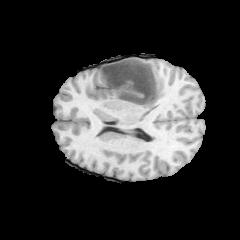glioma: (99, 57, 166, 114)
